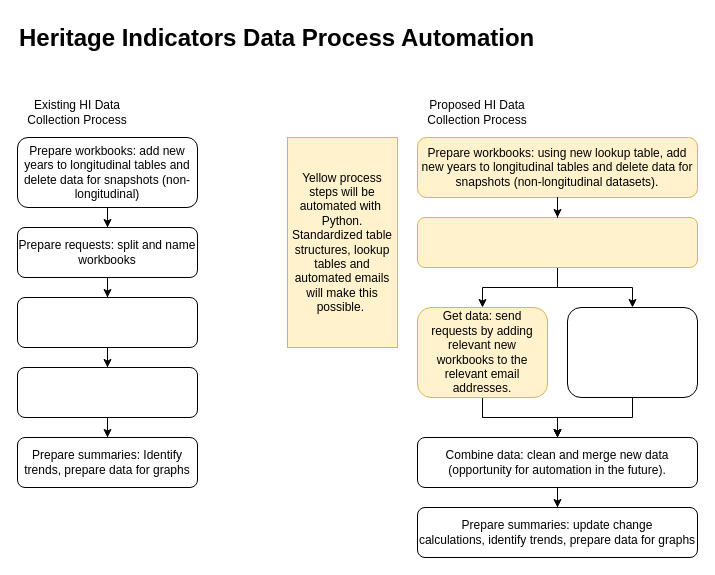
Image size: 715x575. Some labels were removed from this diagram. Here are the shapes that lost their labels. From the top down, the centre of each, then its label:
the point at 557,242: Prepare requests: extract all workbook tables into individual workbook files.
the point at 107,322: Get data: send requests, download publications
the point at 632,352: Get data: download publications to retrieve online data.
the point at 107,392: Combine data: merge new data, update change calculations
